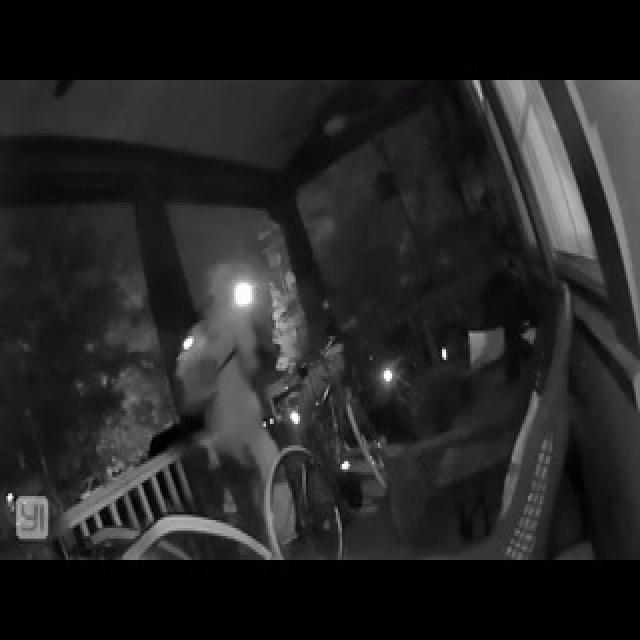thief: (181, 260, 270, 495)
